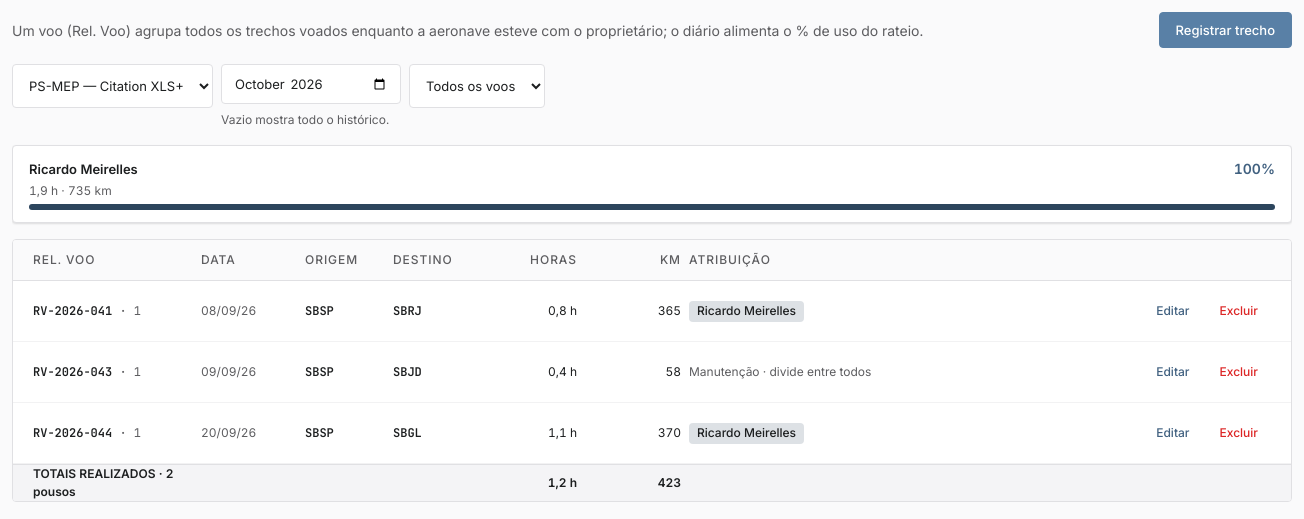
PaginaDeVoos › numa aeronave, mostra o % de uso de cada proprietário; o filtro por voo recorta a grade
The image size is (1304, 519).
Expected: the text "Ricardo Meirelles" in the row of "100" is shown, [29,161,138,177]
Expected: the text "100%" is shown, [1234,158,1275,179]
Select "RV-2026-043" in the 2nd dropdown named "Filtrar por voo" at (477, 86), box [409,64,545,108]
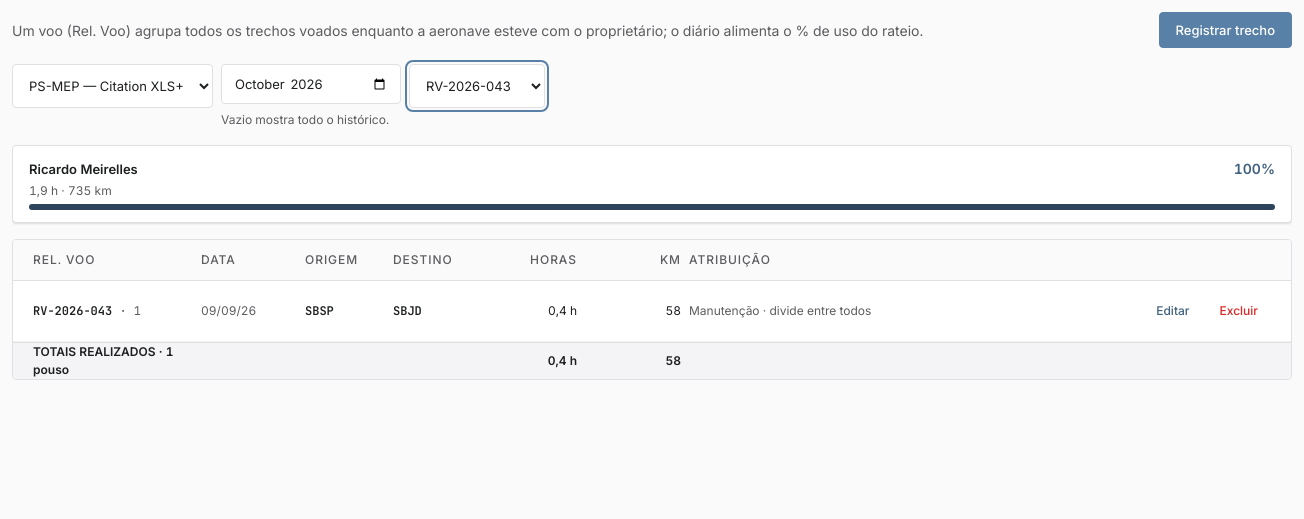
Expected: the text "RV-2026-041" is gone
Expected: the text "0,4 h" in the row of "TOTAIS REALIZADOS ·" is shown, [548,353,577,368]
Expected: the text "58" in the row of "TOTAIS REALIZADOS ·" is shown, [666,353,681,368]
